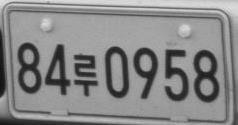0: (103, 45, 130, 99)
4: (44, 43, 71, 95)
5: (163, 48, 189, 101)
8: (193, 48, 220, 103), (16, 40, 42, 94)
9: (132, 45, 159, 100)
루: (73, 53, 98, 97)
